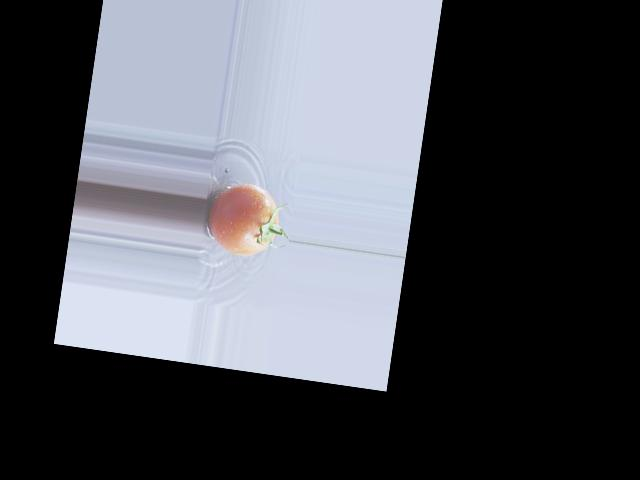tomato: (204, 179, 282, 259)
